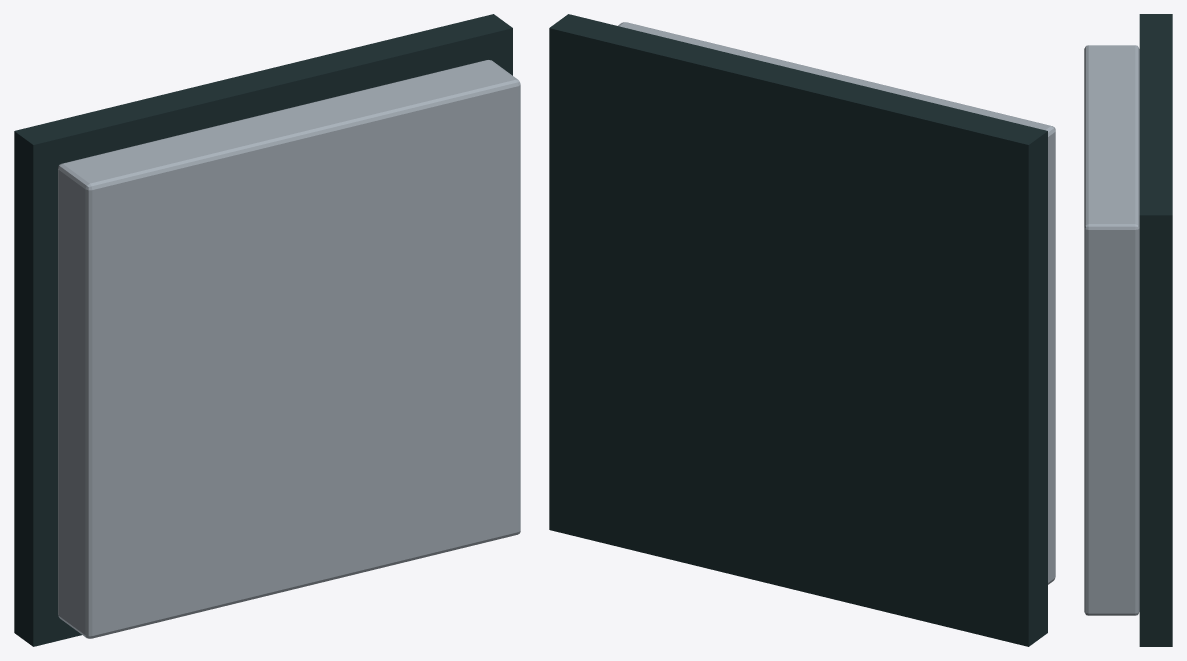
The model's file is cpu.glb.
3 renders of one model, left to right at view 1: azimuth 30°, elevation 25°; view 2: azimuth 150°, elevation 25°; view 3: azimuth 270°, elevation 25°, orthographic. The views are drawn at different scales.
Visible parts, largest first — view 1: Heat spreader, CPU substrate; view 2: CPU substrate, Heat spreader; view 3: Heat spreader, CPU substrate.
Part boxes in pixels (<box>): Heat spreader: <box>58,60,520,638</box>; CPU substrate: <box>14,14,512,646</box>; CPU substrate: <box>549,14,1047,646</box>; Heat spreader: <box>618,22,1055,584</box>; Heat spreader: <box>1084,45,1139,615</box>; CPU substrate: <box>1139,14,1172,646</box>.
Bounding box in the file's own units: 0.043 × 0.043 × 0.008.
